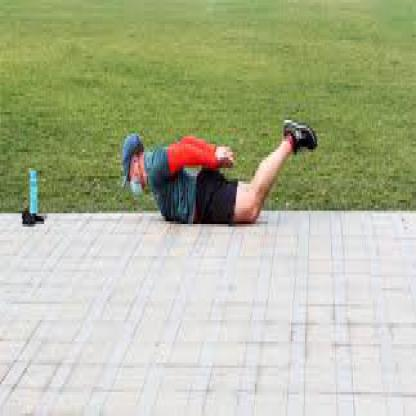Fall_Down: (121, 119, 320, 227)
